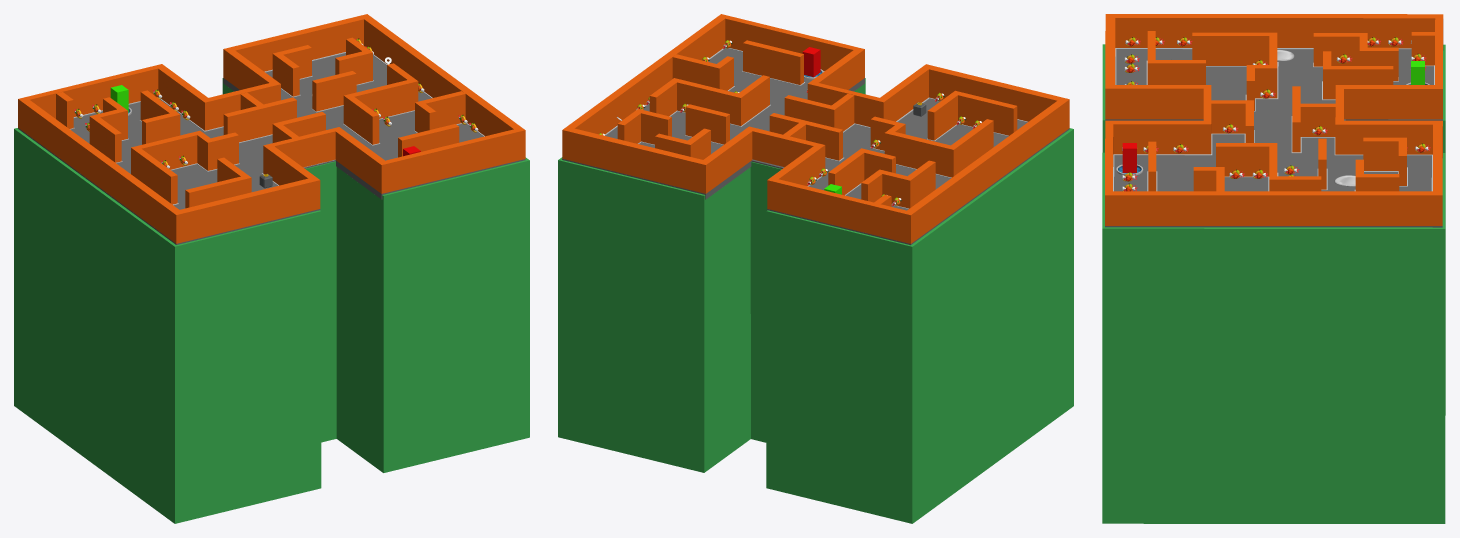
The model's file is Level_23.fbx.
3 views of the same model, side by side, from view 1: azimuth 30°, elevation 25°; view 2: azimuth 150°, elevation 25°; view 3: azimuth 270°, elevation 25° (orthographic). The views are drawn at different scales.
Visible parts, largest first — view 1: Base_1, Compound, Base, Walls, Walls_8, Walls_1, Walls_10, Walls_6, Walls_5, Walls_13, Walls_2, Walls_7 (+12 smaller); view 2: Base_1, Compound, Base, Walls_2, Walls_13, Walls_10, Walls_8, Walls, Walls_1, Walls_6, Walls_5, Walls_16 (+11 smaller); view 3: Base_1, Compound, Base, Walls_8, Walls_5, Walls_9, Walls_11, Walls_22, Walls_12, Walls_21, Walls_18, Walls_4 (+13 smaller).
Boxes of the visible parts, <box> form: Base_1: <box>14,78,529,523</box>; Compound: <box>18,14,525,243</box>; Base: <box>18,53,525,244</box>; Walls: <box>223,97,296,143</box>; Walls_8: <box>131,146,178,205</box>; Walls_1: <box>351,80,412,119</box>; Walls_10: <box>138,132,200,170</box>; Walls_6: <box>311,71,356,112</box>; Walls_5: <box>343,94,380,145</box>; Walls_13: <box>185,175,251,208</box>; Walls_2: <box>398,124,459,157</box>; Walls_7: <box>422,91,465,128</box>; Base_1: <box>558,78,1073,523</box>; Compound: <box>562,14,1069,243</box>; Base: <box>562,48,1069,245</box>; Walls_2: <box>742,40,804,85</box>; Walls_13: <box>951,90,1017,136</box>; Walls_10: <box>885,130,950,176</box>; Walls_8: <box>946,119,993,178</box>; Walls: <box>769,113,843,161</box>; Walls_1: <box>677,79,737,125</box>; Walls_6: <box>684,104,729,145</box>; Walls_5: <box>734,75,770,126</box>; Walls_16: <box>784,95,838,128</box>; Base_1: <box>1102,44,1445,523</box>; Compound: <box>1105,14,1443,225</box>; Base: <box>1105,49,1443,227</box>; Walls_8: <box>1192,32,1278,66</box>; Walls_5: <box>1216,143,1278,177</box>; Walls_9: <box>1313,33,1359,67</box>; Walls_11: <box>1322,66,1393,100</box>; Walls_22: <box>1363,137,1407,171</box>; Walls_12: <box>1155,60,1205,84</box>; Walls_21: <box>1296,103,1335,137</box>; Walls_18: <box>1211,100,1252,134</box>; Walls_4: <box>1269,176,1321,191</box>.
Size of the model in its own units: 174 by 144 by 137.
